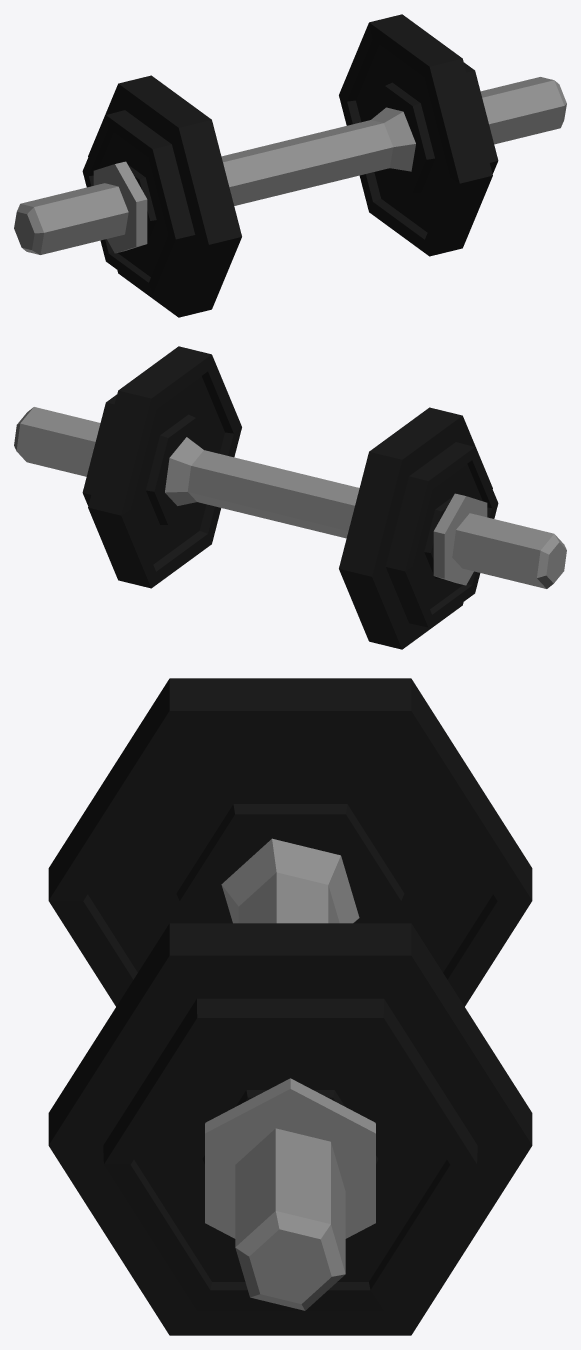
File: dumbbell.glb
3 renders of one model, top to bottom at view 1: azimuth 30°, elevation 25°; view 2: azimuth 150°, elevation 25°; view 3: azimuth 270°, elevation 25°, orthographic. The views are drawn at different scales.
Parts seen in each view (by area): view 1: Dumbbell; view 2: Dumbbell; view 3: Dumbbell.
Boxes of the visible parts, x1,y1,x2,y2 form: Dumbbell: [14, 14, 566, 317]; Dumbbell: [14, 346, 566, 649]; Dumbbell: [48, 678, 532, 1335].
Size of the model in its own units: 0.4666 by 0.159 by 0.1837.
1 material, 1 textured.
